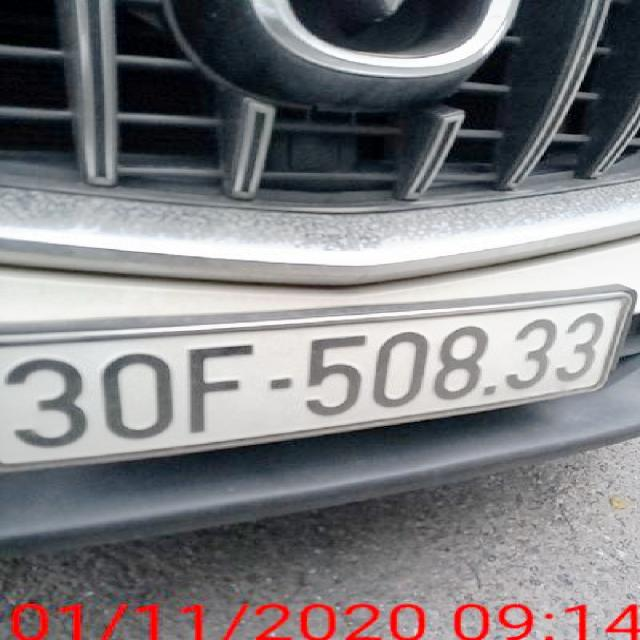license_plate: (1, 298, 637, 466)
